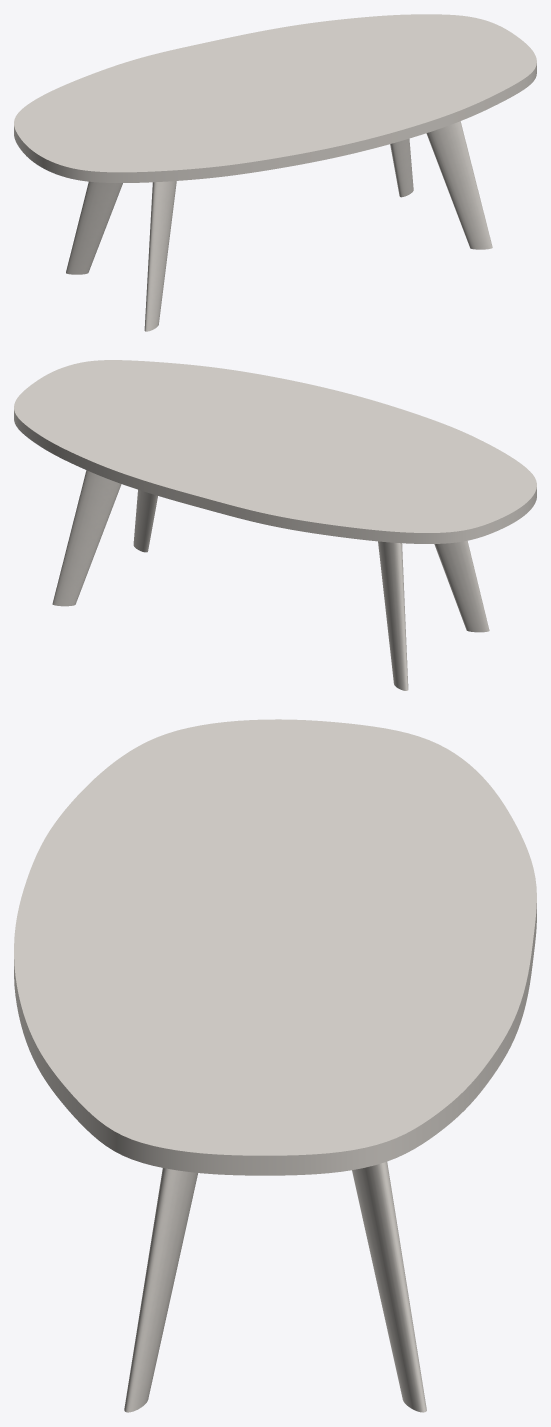
File: pearlwhite_danish_standard_ferdinantwalnut.glb
The picture shows the model from 3 angles, top to bottom: view 1: azimuth 30°, elevation 25°; view 2: azimuth 150°, elevation 25°; view 3: azimuth 270°, elevation 25°; orthographic projection. The views are drawn at different scales.
Parts seen in each view (by area): view 1: standard_danish, ferdinandwalnut; view 2: standard_danish, ferdinandwalnut; view 3: standard_danish, ferdinandwalnut.
Part boxes in pixels (left/top/right/bottom): standard_danish: left=14, top=14, right=536, bottom=182; ferdinandwalnut: left=66, top=121, right=492, bottom=331; standard_danish: left=14, top=360, right=536, bottom=543; ferdinandwalnut: left=52, top=470, right=489, bottom=690; standard_danish: left=14, top=719, right=536, bottom=1175; ferdinandwalnut: left=124, top=1161, right=426, bottom=1412.
Bounding box in the file's own units: 7.5 × 2.51 × 3.8.
Materials: 1 (1 with a texture image).
